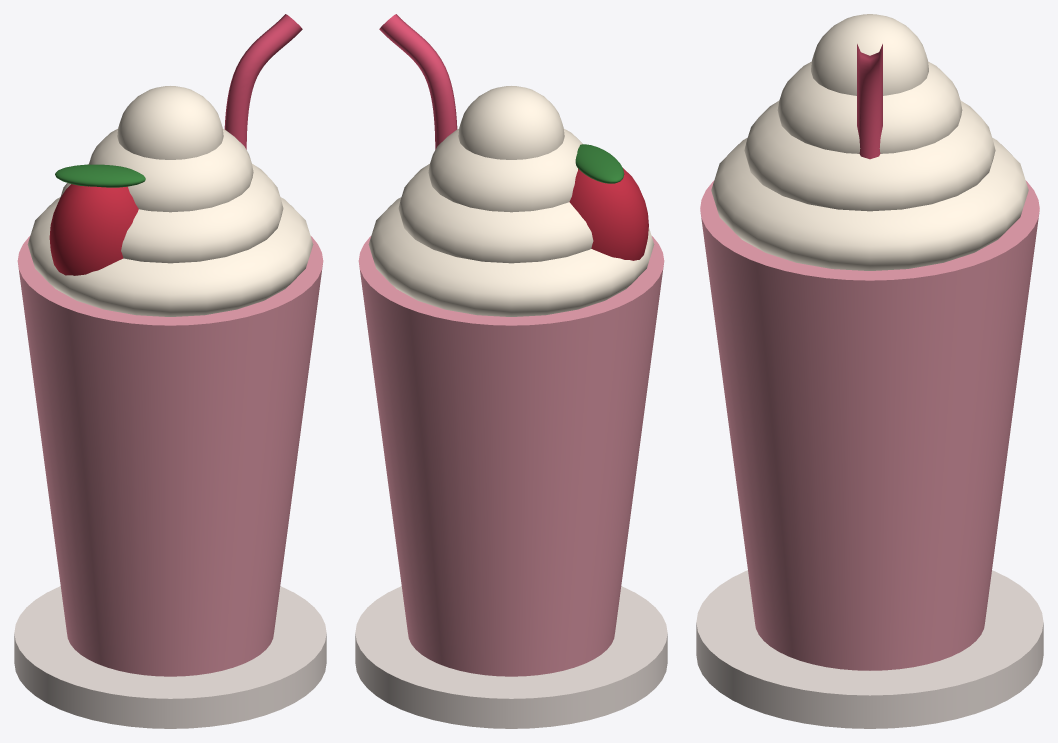
The model's file is shake.glb.
The picture shows the model from 3 angles, left to right: view 1: azimuth 30°, elevation 25°; view 2: azimuth 150°, elevation 25°; view 3: azimuth 270°, elevation 25°; orthographic projection. The views are drawn at different scales.
Visible parts, largest first — view 1: Stylized demo shake; view 2: Stylized demo shake; view 3: Stylized demo shake.
Part boxes in pixels (x1,y1,x2,y2): Stylized demo shake: [14, 14, 326, 728]; Stylized demo shake: [355, 14, 667, 728]; Stylized demo shake: [696, 14, 1043, 728].
Size of the model in its own units: 0.94 by 2.06 by 0.94.
